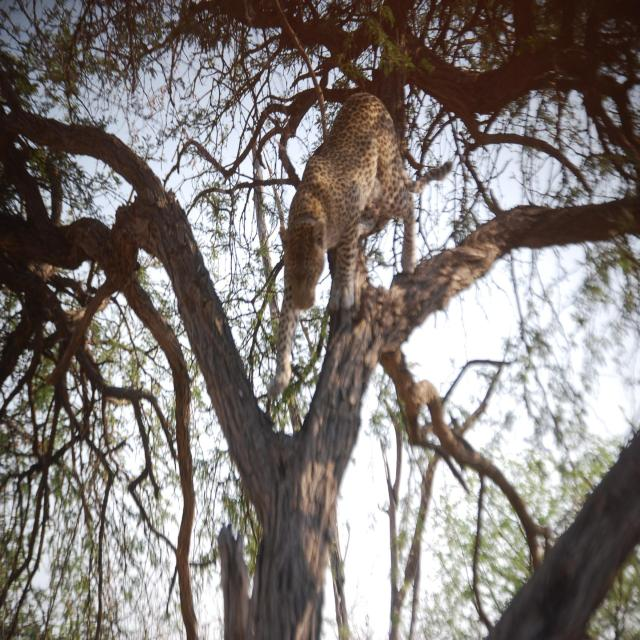Leopard: (284, 77, 417, 316)
